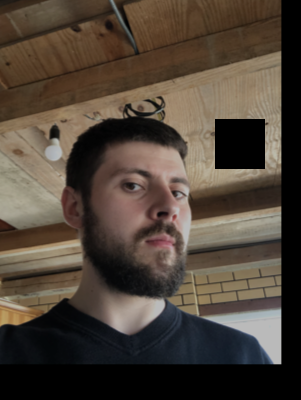without_mask: (97, 164, 191, 297)
